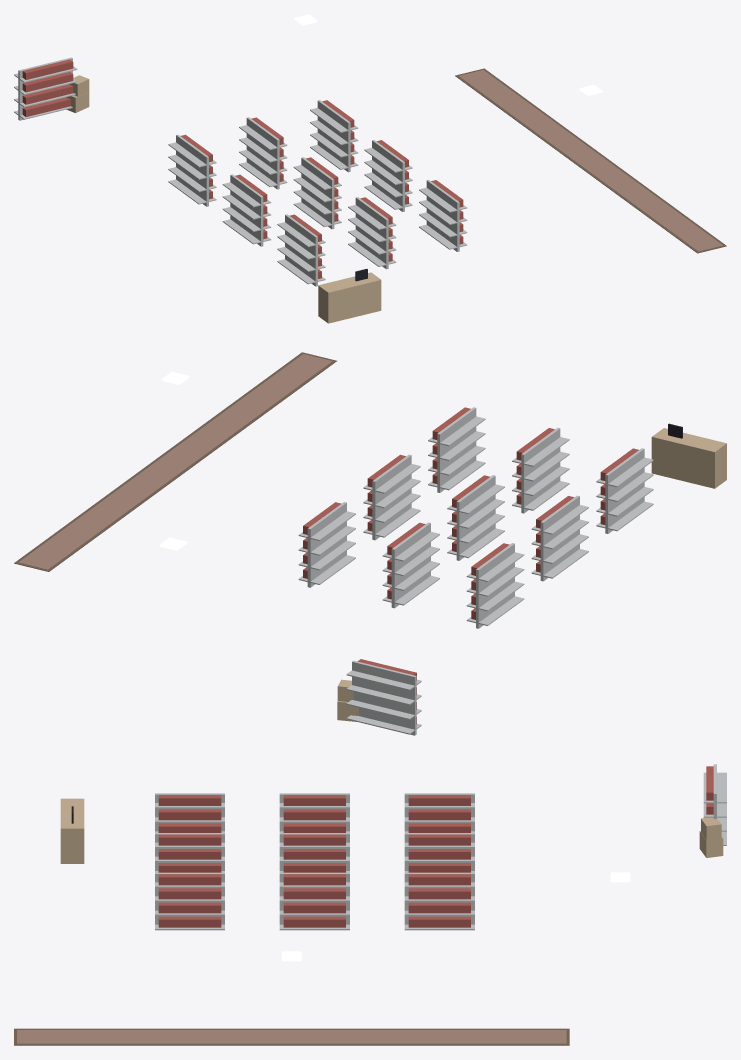
File: fine-s0.glb
3 renders of one model, top to bottom at view 1: azimuth 30°, elevation 25°; view 2: azimuth 150°, elevation 25°; view 3: azimuth 270°, elevation 25°, orthographic. The views are drawn at different scales.
Parts seen in each view (by area): view 1: soft-s0, shelving.000, shop-counter.000, shelf.001, shelf.004, shelf.005, shelf.006, shelf.003, shelf.008, shelf.002, shelf.000, shelf.007 (+1 smaller); view 2: soft-s0, shelving.000, shop-counter.000, shelf.007, shelf.002, shelf.005, shelf.008, shelf.000, shelf.003, shelf.004, shelf.006, shelf.001 (+1 smaller); view 3: soft-s0, shelf.006, shelf.007, shelf.008, shelf.000, shelf.001, shelf.003, shelf.004, shelf.002, shelf.005, shop-counter.000, shelving.000 (+1 smaller).
Boxes of the visible parts, x1,y1,x2,y2 form: soft-s0: [455, 68, 726, 253]; shelving.000: [14, 57, 77, 120]; shop-counter.000: [318, 269, 381, 323]; shelf.001: [222, 174, 271, 246]; shelf.004: [293, 157, 341, 229]; shelf.005: [348, 197, 396, 269]; shelf.006: [310, 100, 358, 172]; shelf.003: [239, 117, 287, 189]; shelf.008: [419, 180, 467, 251]; shelf.002: [277, 214, 325, 286]; shelf.000: [168, 134, 216, 206]; shelf.007: [364, 140, 412, 211]; soft-s0: [14, 352, 336, 571]; shelving.000: [346, 659, 421, 735]; shop-counter.000: [651, 423, 726, 488]; shelf.007: [363, 454, 420, 540]; shelf.002: [596, 448, 653, 533]; shelf.005: [512, 427, 569, 513]; shelf.008: [428, 407, 485, 492]; shelf.000: [466, 543, 524, 628]; shelf.003: [382, 522, 439, 608]; shelf.004: [447, 475, 504, 560]; shelf.006: [298, 502, 355, 587]; shelf.001: [531, 495, 588, 581]; soft-s0: [14, 1028, 569, 1045]; shelf.006: [404, 872, 474, 930]; shelf.007: [279, 872, 349, 930]; shelf.008: [155, 872, 224, 930]; shelf.000: [404, 793, 474, 832]; shelf.001: [279, 793, 349, 832]; shelf.003: [404, 833, 474, 872]; shelf.004: [279, 833, 349, 872]; shelf.002: [155, 793, 224, 832]; shelf.005: [155, 833, 224, 872]; shop-counter.000: [60, 798, 84, 863]; shelving.000: [703, 764, 726, 845].
Bounding box in the file's own units: 13.62 × 2.31 × 18.27.
